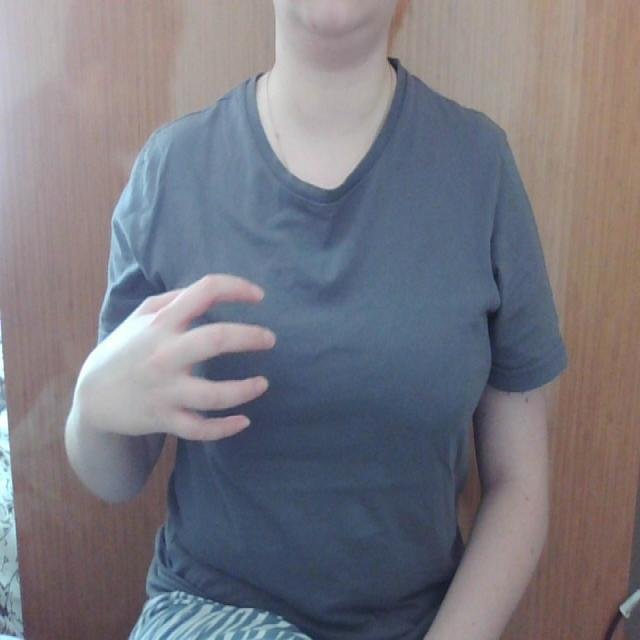Anne: (64, 265, 508, 446)
